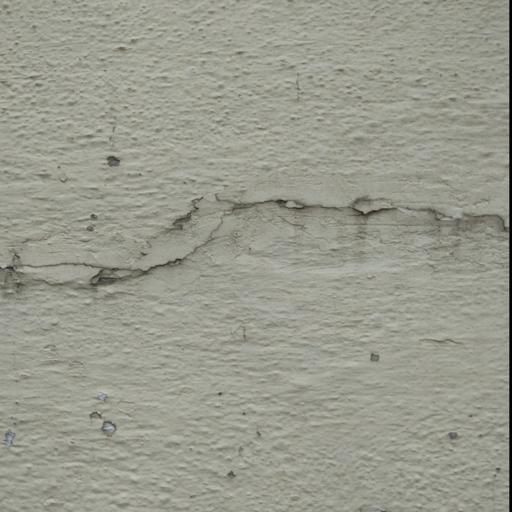minor_crack: (0, 169, 512, 310)
